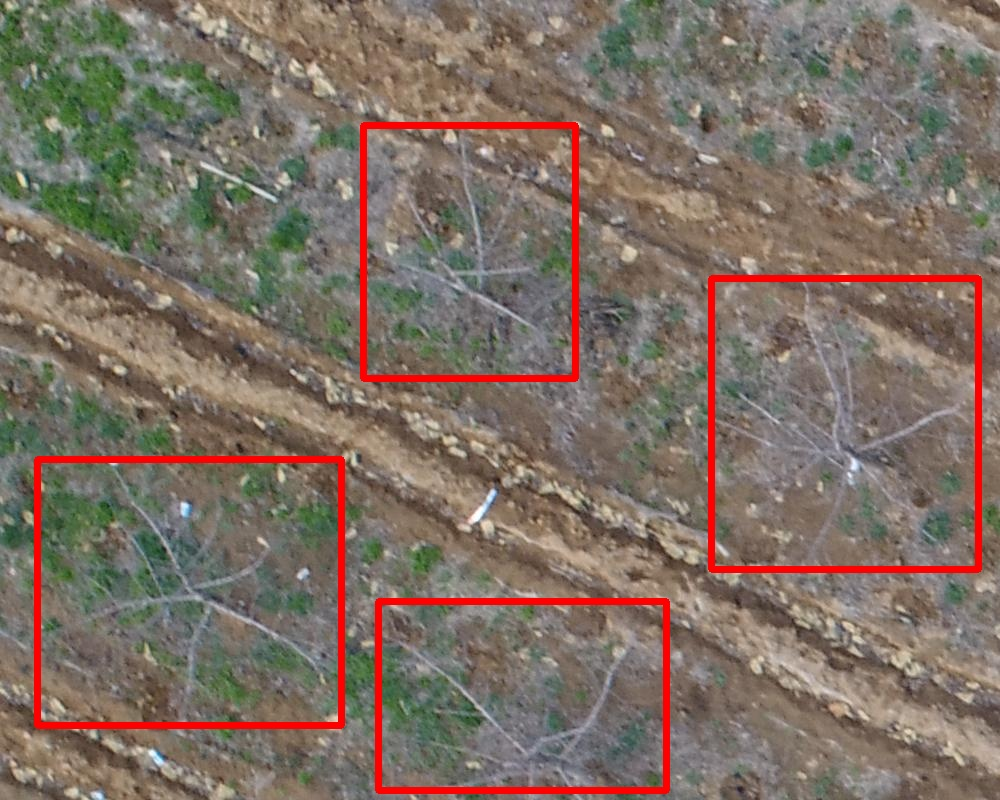apple: (37, 459, 341, 725), (711, 278, 978, 569), (378, 601, 666, 790), (363, 125, 575, 378)
